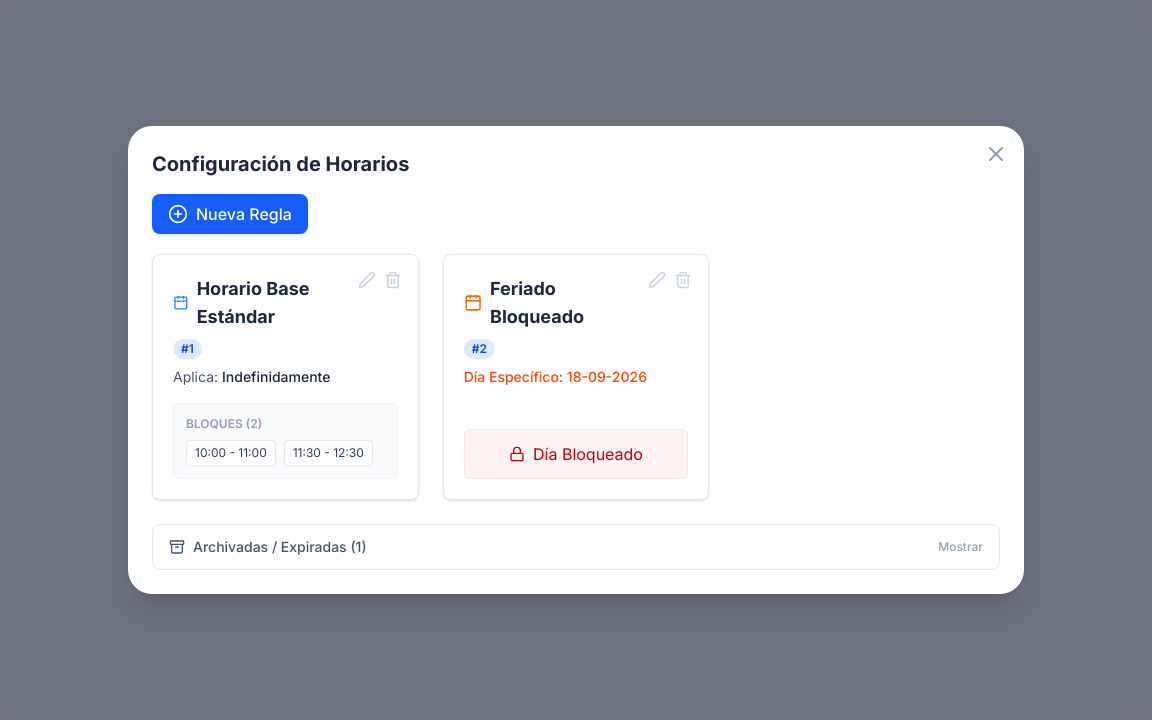
Scenario: Modal de Configuración de Horarios (dentro de /calendario) - Pruebas Unitarias y de Componente › 5. Debe mostrar la sección colapsable de archivadas con nota de historial
Click the text "Archivadas / Expiradas (1)". click: point(280, 547)
box: 193,537 -> 366,557
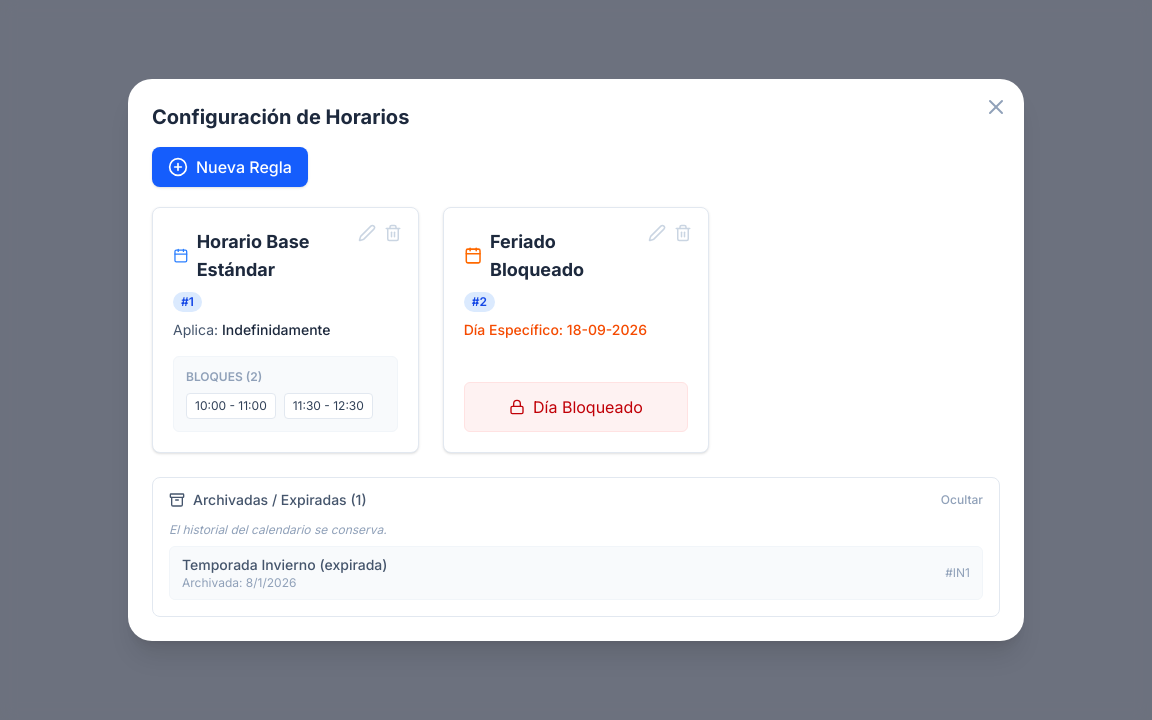
Check: the text "El historial del calendario se conserva." is shown, box 169,522 -> 387,537
Check: the text "Temporada Invierno (expirada)" is shown, box 182,555 -> 388,575
